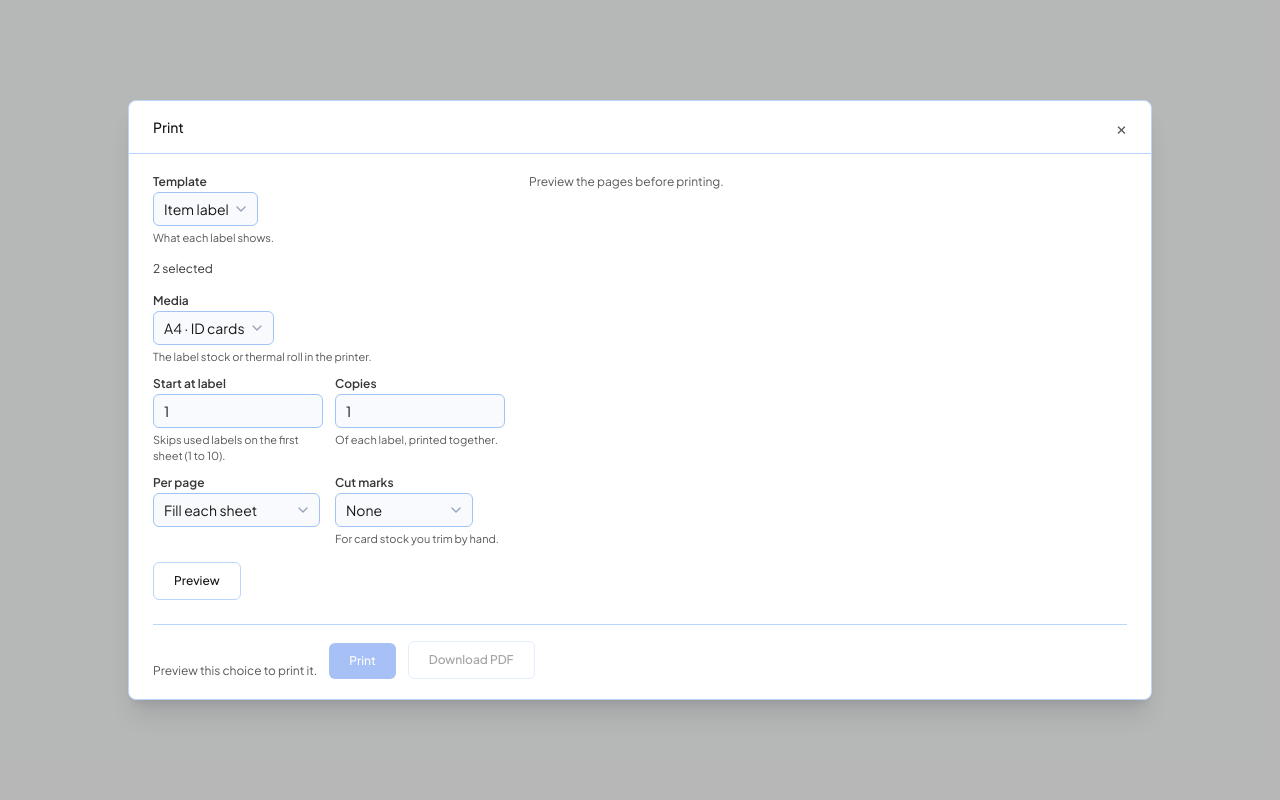
Test: PrintLabelsPanel › thermal media offer ZPL instead of Print
This screenshot has width=1280, height=800.
Select "Thermal 4x2" in the dropdown labelled "Media" at coordinates (214, 328), box x1=153 y1=311 x2=274 y2=345
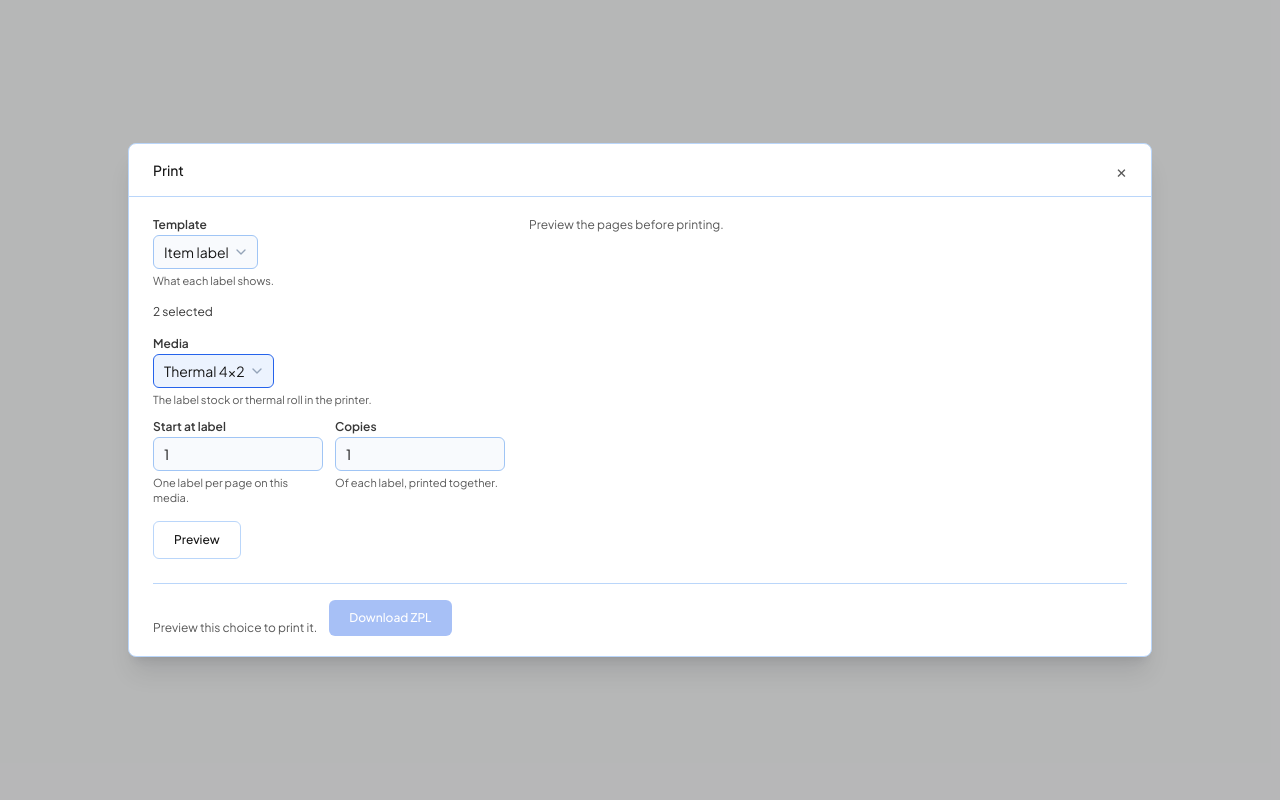
Expected: the button "Download ZPL" is shown, x1=329 y1=600 x2=452 y2=636
